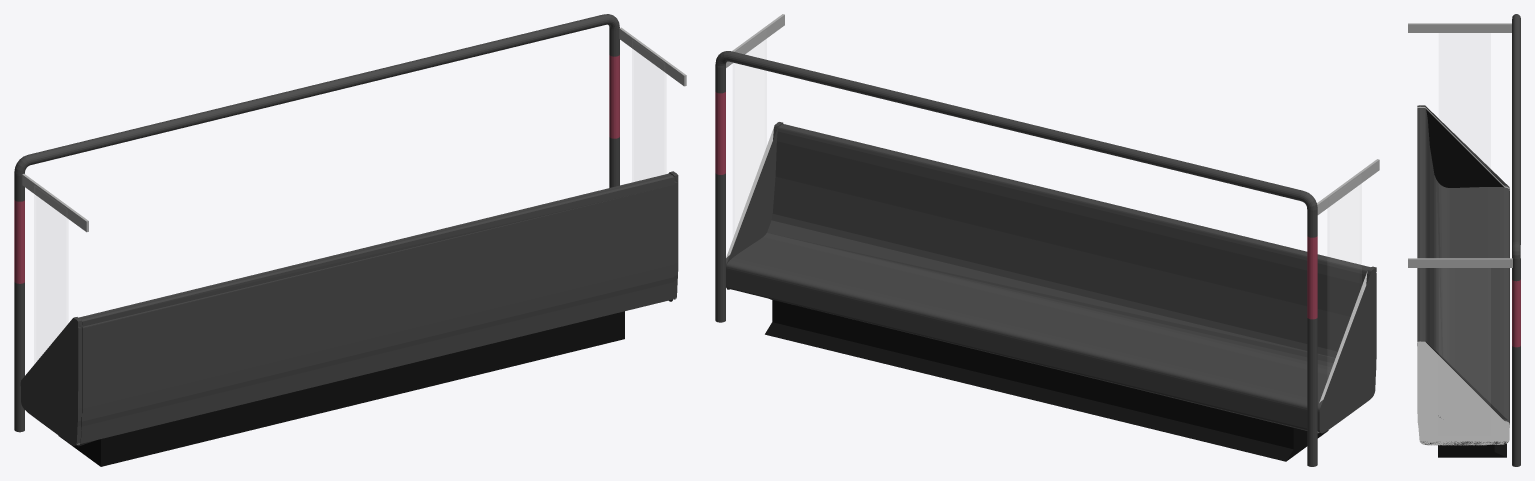
The model's file is mtrChairForSubstance.fbx.
The picture shows the model from 3 angles, left to right: view 1: azimuth 30°, elevation 25°; view 2: azimuth 150°, elevation 25°; view 3: azimuth 270°, elevation 25°; orthographic projection. The views are drawn at different scales.
Visible parts, largest first — view 1: polySurface1; view 2: polySurface1; view 3: polySurface1.
Part boxes in pixels (<box>): polySurface1: <box>14,14,686,466</box>; polySurface1: <box>715,14,1379,466</box>; polySurface1: <box>1408,14,1520,466</box>.
Bounding box in the file's own units: 4.21 × 1.87 × 0.843.
